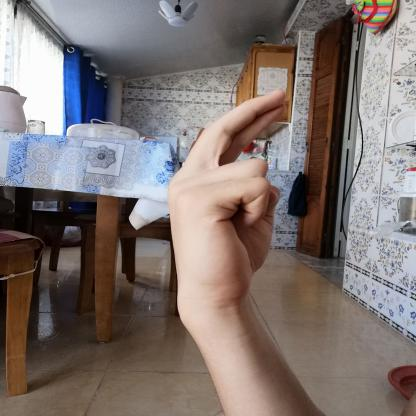ZAY: (153, 78, 302, 314)
